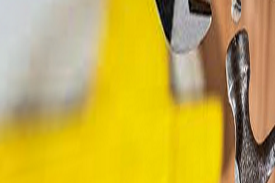Wrench: (150, 1, 227, 61)
